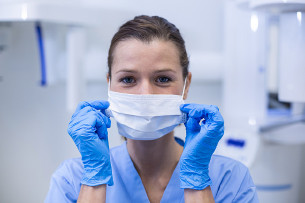face_mask: (108, 40, 182, 139)
